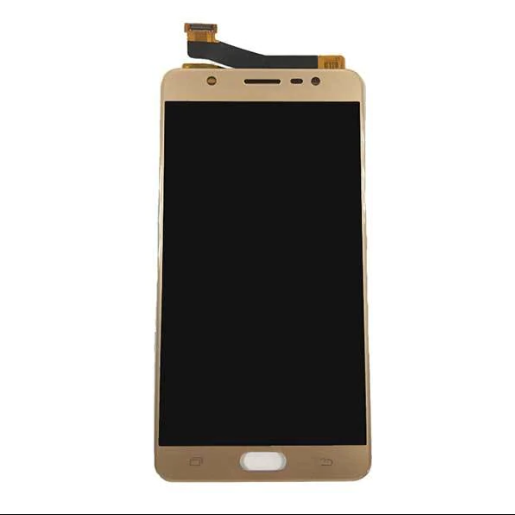phone: (150, 21, 376, 485)
